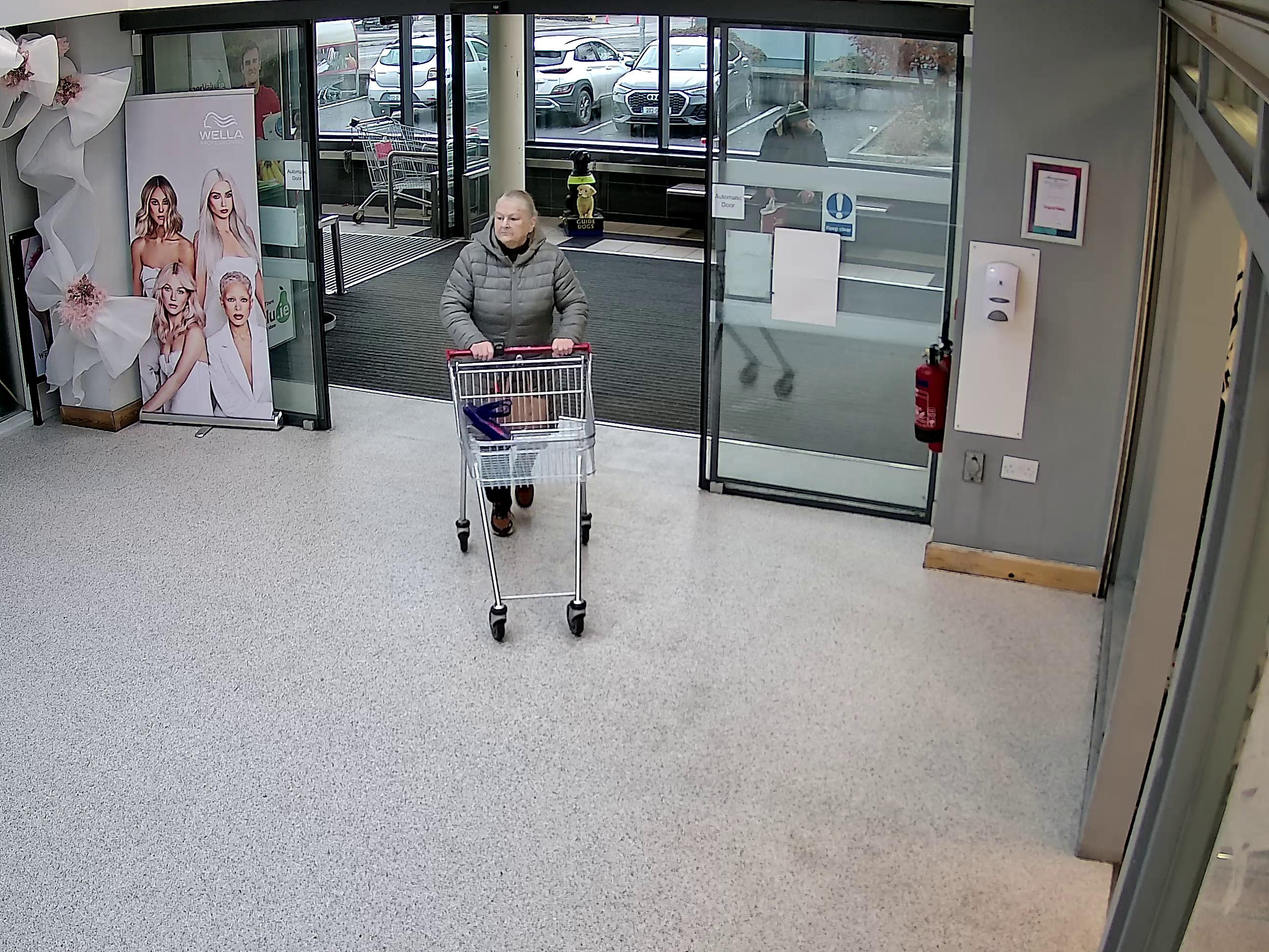empty-shopping-bags: (460, 398, 516, 445)
empty-trolly: (445, 340, 596, 640)
person: (440, 188, 590, 537)
person-with-basket-trolly-and-shopping-bag: (440, 188, 598, 642)
